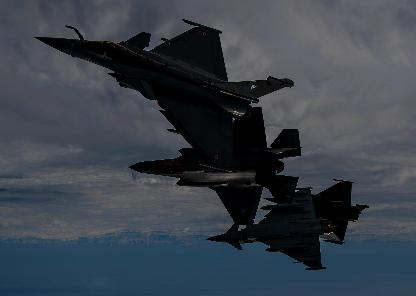E2: (206, 188, 342, 270)
F22: (129, 107, 303, 226)
RQ4: (35, 18, 295, 174), (264, 180, 369, 246)
